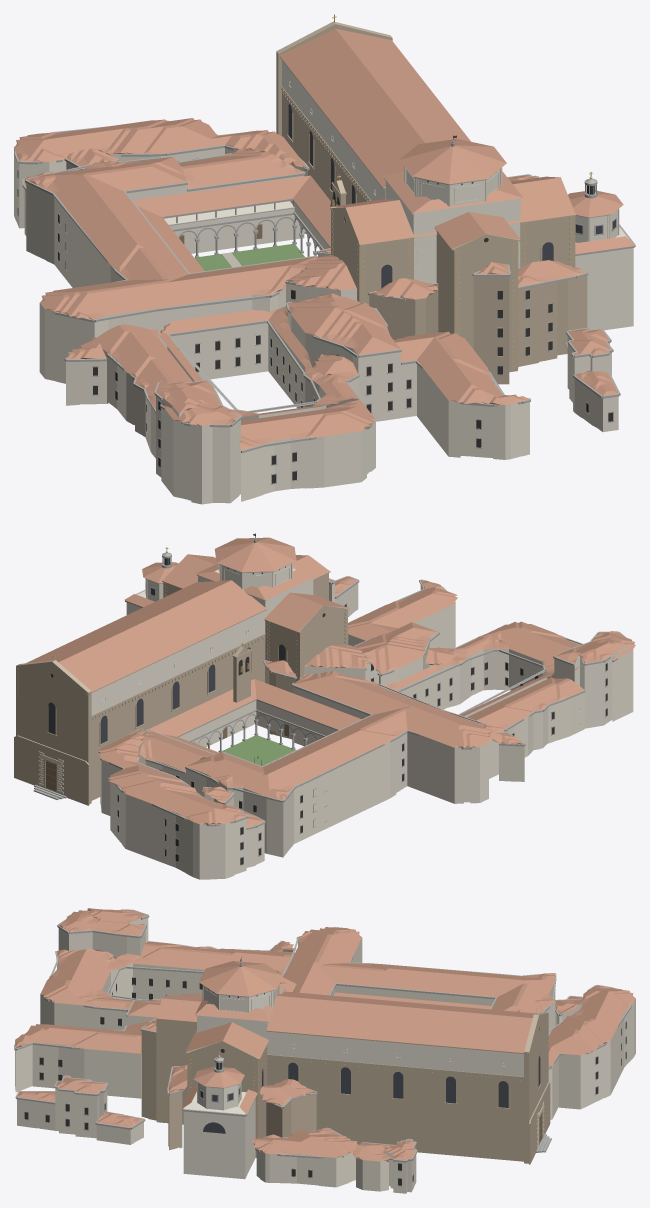
File: carmine.glb
3 renders of one model, top to bottom at view 1: azimuth 30°, elevation 25°; view 2: azimuth 150°, elevation 25°; view 3: azimuth 270°, elevation 25°, orthographic. The views are drawn at different scales.
Visible parts, largest first — view 1: convento@1300-99999.roof_m, convento@1300-99999.conv, chiesa@1300-99999.roof, chiesa@1300-99999.rough, cappelle@1300-99999.rough, convento@1300-99999.serena, chiostro@1612-99999.roof, tiburio@1782-99999.plaster, tiburio@1782-99999.roof, cappella_corsini@1683-99999.plaster, chiesa@1300-99999.forte, chiostro@1612-99999.conv (+10 smaller); view 2: convento@1300-99999.conv, convento@1300-99999.roof_m, chiesa@1300-99999.rough, chiesa@1300-99999.roof, convento@1300-99999.serena, chiesa@1300-99999.plaster, chiostro@1612-99999.roof, tiburio@1782-99999.roof, chiostro@1612-99999.conv, tiburio@1782-99999.plaster, chiesa@1300-99999.forte, chiostro@1612-99999.serena (+6 smaller); view 3: convento@1300-99999.roof_m, chiesa@1300-99999.rough, convento@1300-99999.conv, chiesa@1300-99999.roof, chiesa@1300-99999.plaster, cappella_corsini@1683-99999.plaster, annessi_est@1500-99999.conv, cappelle@1300-99999.rough, annessi_sud@1500-99999.conv, tiburio@1782-99999.roof, annessi_est@1500-99999.roof_m, convento@1300-99999.serena (+11 smaller).
Boxes of the visible parts, <box> form: convento@1300-99999.roof_m: <box>14,118,529,450</box>; convento@1300-99999.conv: <box>14,148,529,504</box>; chiesa@1300-99999.roof: <box>280,28,575,249</box>; chiesa@1300-99999.rough: <box>276,21,571,372</box>; cappelle@1300-99999.rough: <box>318,254,587,384</box>; convento@1300-99999.serena: <box>14,120,530,484</box>; chiostro@1612-99999.roof: <box>133,175,330,273</box>; tiburio@1782-99999.plaster: <box>384,166,522,283</box>; tiburio@1782-99999.roof: <box>383,139,522,213</box>; cappella_corsini@1683-99999.plaster: <box>575,209,633,330</box>; chiesa@1300-99999.forte: <box>279,56,576,369</box>; chiostro@1612-99999.conv: <box>164,200,329,249</box>; convento@1300-99999.conv: <box>100,585,633,879</box>; convento@1300-99999.roof_m: <box>98,580,635,827</box>; chiesa@1300-99999.rough: <box>14,573,347,805</box>; chiesa@1300-99999.roof: <box>26,554,348,691</box>; convento@1300-99999.serena: <box>99,579,626,865</box>; chiesa@1300-99999.plaster: <box>18,611,265,715</box>; chiostro@1612-99999.roof: <box>145,679,361,765</box>; tiburio@1782-99999.roof: <box>196,537,315,600</box>; chiostro@1612-99999.conv: <box>179,700,336,747</box>; tiburio@1782-99999.plaster: <box>196,563,314,616</box>; chiesa@1300-99999.forte: <box>16,571,349,745</box>; chiostro@1612-99999.serena: <box>177,699,338,752</box>; convento@1300-99999.roof_m: <box>15,908,635,1067</box>; chiesa@1300-99999.rough: <box>156,990,550,1164</box>; convento@1300-99999.conv: <box>15,908,635,1119</box>; chiesa@1300-99999.roof: <box>156,977,536,1058</box>; chiesa@1300-99999.plaster: <box>267,1031,523,1076</box>; cappella_corsini@1683-99999.plaster: <box>183,1081,255,1179</box>; annessi_est@1500-99999.conv: <box>256,1147,416,1193</box>; cappelle@1300-99999.rough: <box>141,1031,316,1150</box>; annessi_sud@1500-99999.conv: <box>17,1088,143,1144</box>; tiburio@1782-99999.roof: <box>195,961,286,1021</box>; annessi_est@1500-99999.roof_m: <box>251,1128,415,1161</box>; convento@1300-99999.serena: <box>14,909,631,1101</box>.
Bounding box in the file's own units: 116 × 40.85 × 139.
